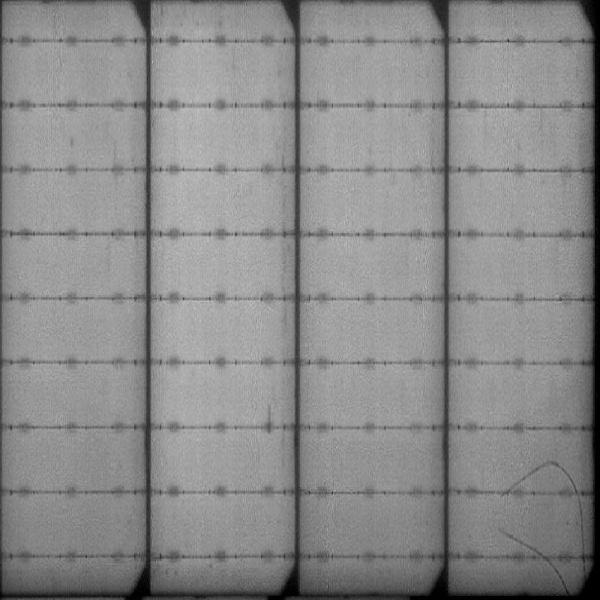scratch: (495, 527, 569, 592), (497, 458, 585, 491), (572, 496, 588, 553), (264, 397, 279, 445)
